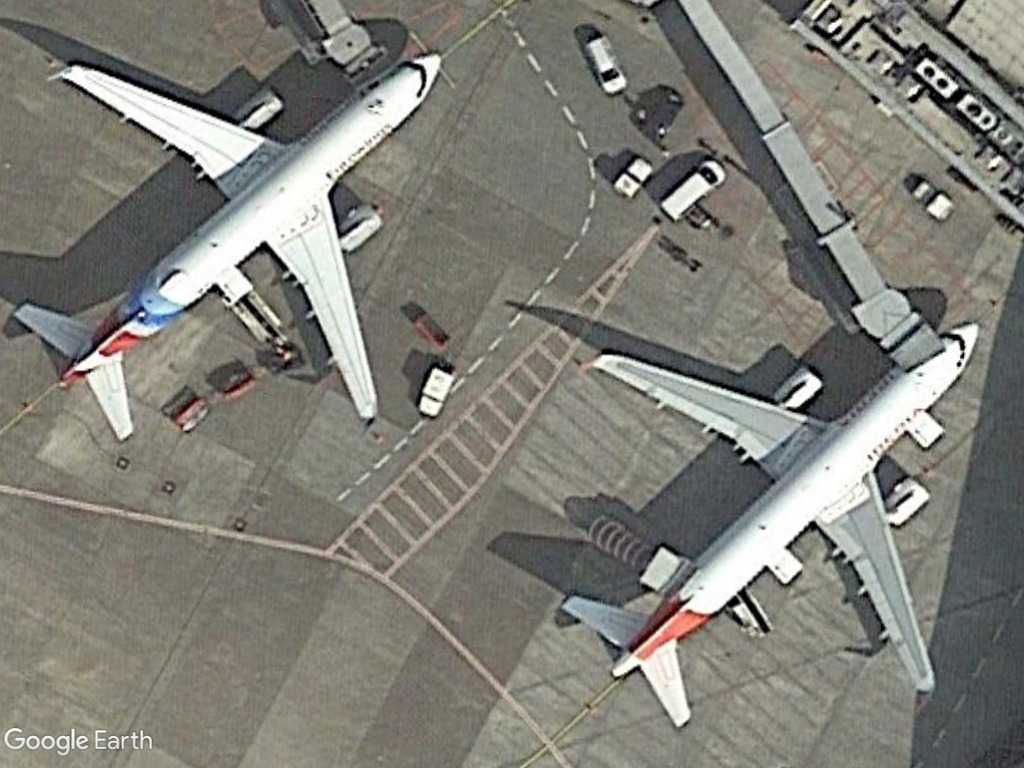airliner: (553, 313, 991, 736), (10, 43, 456, 447)
other: (412, 362, 461, 428)
van: (657, 157, 727, 227), (582, 28, 628, 102)
